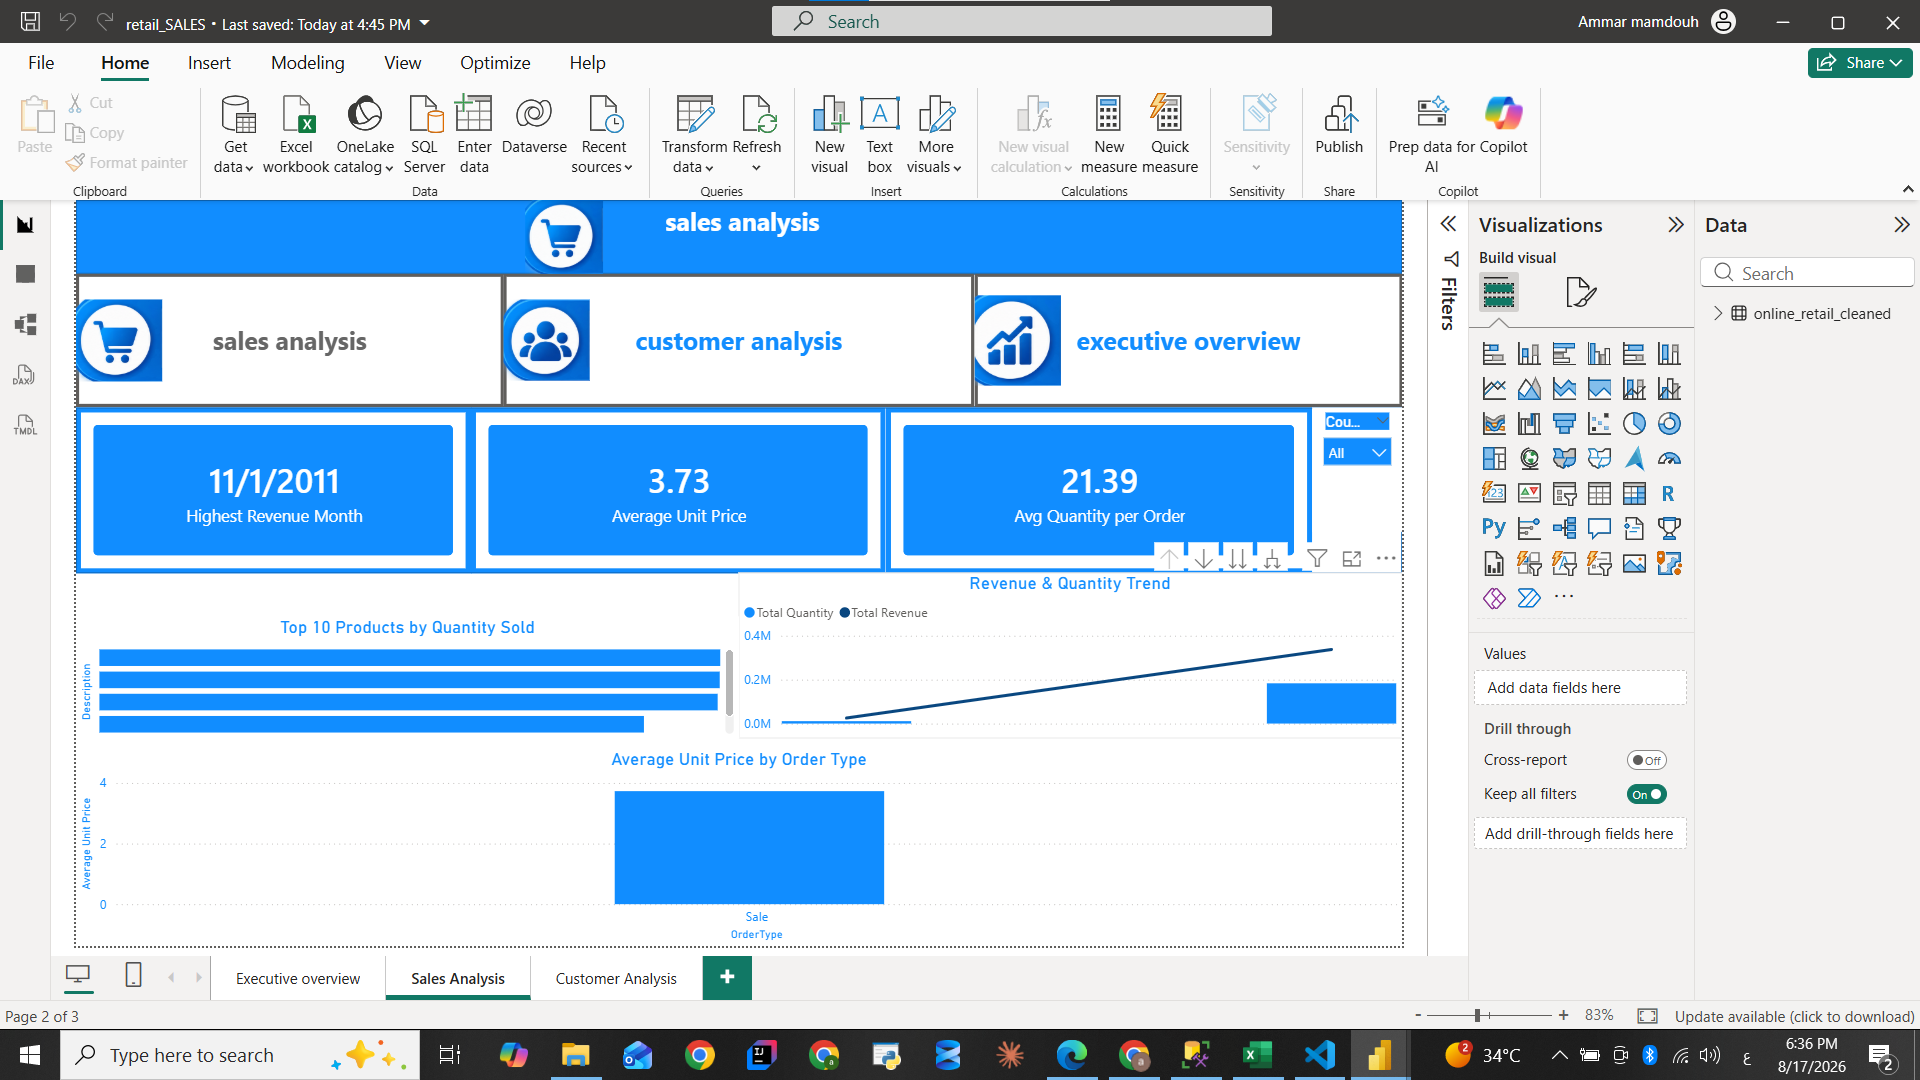

The dashboard page shown, as its layout file describes it:
{"tool":"powerbi","page":{"name":"Sales Analysis","canvas":[1280,720],"ordinal":1},"visuals":[{"type":"shape","box":[0,0,1280,71.2],"z":0},{"type":"textbox","box":[0,0,1280,42.5],"z":1000},{"type":"shape","box":[0,71.2,1280,128.8],"z":2000},{"type":"cardVisual","fields":{"Data":["online_retail_cleaned.Highest Revenue Month"]},"box":[0,200,381.4,160],"z":3000},{"type":"cardVisual","fields":{"Data":["online_retail_cleaned.Average Unit Price"]},"box":[381.4,200,400,160],"z":4000},{"type":"cardVisual","fields":{"Data":["online_retail_cleaned.Avg Quantity per Order"]},"box":[781.4,200,411.4,160],"z":5000},{"type":"shape","box":[0,200,1280,160],"z":6000},{"type":"lineClusteredColumnComboChart","title":"Revenue & Quantity Trend","fields":{"Category":["online_retail_cleaned.InvoiceMonth.Variation.Date Hierarchy.Year","online_retail_cleaned.InvoiceMonth.Variation.Date Hierarchy.Quarter","online_retail_cleaned.InvoiceMonth.Variation.Date Hierarchy.Month","online_retail_cleaned.InvoiceMonth.Variation.Date Hierarchy.Day"],"Y":["online_retail_cleaned.Total Quantity"],"Y2":["online_retail_cleaned.Total Revenue"]},"box":[640,360,640,160],"z":7000},{"type":"clusteredBarChart","title":"Top 10 Products by Quantity Sold","fields":{"Category":["online_retail_cleaned.Description"],"Y":["online_retail_cleaned.Total Quantity"]},"box":[0,401.4,640,118.6],"z":8000},{"type":"clusteredColumnChart","title":"Average Unit Price by Order Type","fields":{"Category":["online_retail_cleaned.OrderType"],"Y":["online_retail_cleaned.Average Unit Price"]},"box":[0,530,1280,190],"z":9000},{"type":"slicer","fields":{"Values":["online_retail_cleaned.Country"]},"box":[1192.9,200,87.1,120],"z":10000},{"type":"actionButton","box":[0,71.4,412.9,128.6],"z":11000},{"type":"actionButton","box":[867.1,71.4,412.9,128.6],"z":12000},{"type":"actionButton","box":[412.9,71.4,454.3,128.6],"z":13000},{"type":"image","box":[0,71.4,82.9,128.6],"z":14000},{"type":"image","box":[430,0,82.9,71.4],"z":15000},{"type":"image","box":[412.9,71.4,82.9,128.6],"z":16000},{"type":"image","box":[867.1,71.4,82.9,128.6],"z":17000}]}

Visuals, with their boxes on the page's 1280x720 design canvas (x1, y1, x2, y2). These are canvas units, not pixel positions in the 1920x1080 screenshot, which may show the page scaled, cropped or inside an application window:
shape: <box>0,0,1280,71</box>
textbox: <box>0,0,1280,42</box>
shape: <box>0,71,1280,200</box>
cardVisual - online_retail_cleaned.Highest Revenue Month: <box>0,200,381,360</box>
cardVisual - online_retail_cleaned.Average Unit Price: <box>381,200,781,360</box>
cardVisual - online_retail_cleaned.Avg Quantity per Order: <box>781,200,1193,360</box>
shape: <box>0,200,1280,360</box>
"Revenue & Quantity Trend" lineClusteredColumnComboChart: <box>640,360,1280,520</box>
"Top 10 Products by Quantity Sold" clusteredBarChart: <box>0,401,640,520</box>
"Average Unit Price by Order Type" clusteredColumnChart: <box>0,530,1280,720</box>
slicer - online_retail_cleaned.Country: <box>1193,200,1280,320</box>
actionButton: <box>0,71,413,200</box>
actionButton: <box>867,71,1280,200</box>
actionButton: <box>413,71,867,200</box>
image: <box>0,71,83,200</box>
image: <box>430,0,513,71</box>
image: <box>413,71,496,200</box>
image: <box>867,71,950,200</box>
